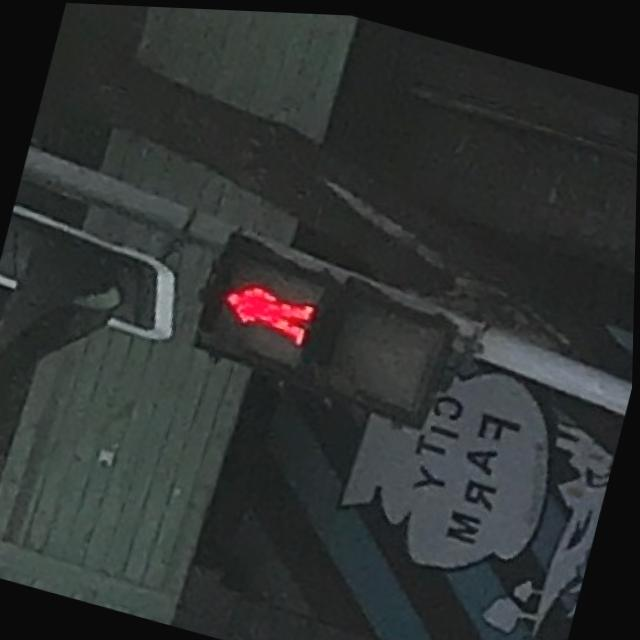red_light: (201, 241, 332, 368)
